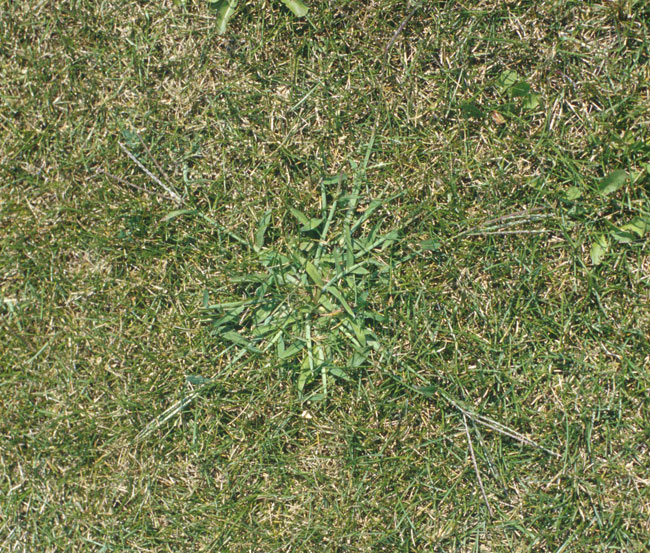crabgrass: (154, 142, 442, 404)
